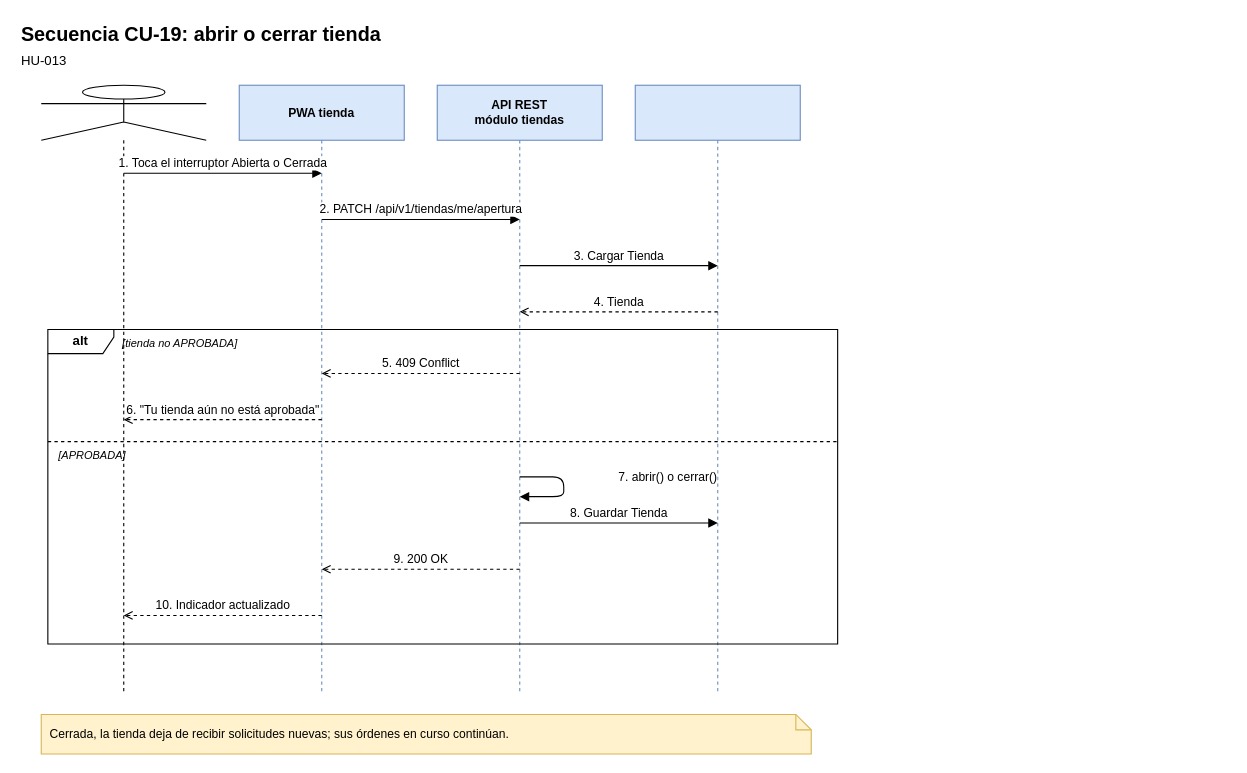
Some shapes in this 1247 by 773 pixel diagram are drawn without their labels. Here are the shapes that lost their labels. From the top down, the box of each, then its label:
(40, 84, 206, 692): Tienda
(634, 84, 800, 692): PostgreSQL
